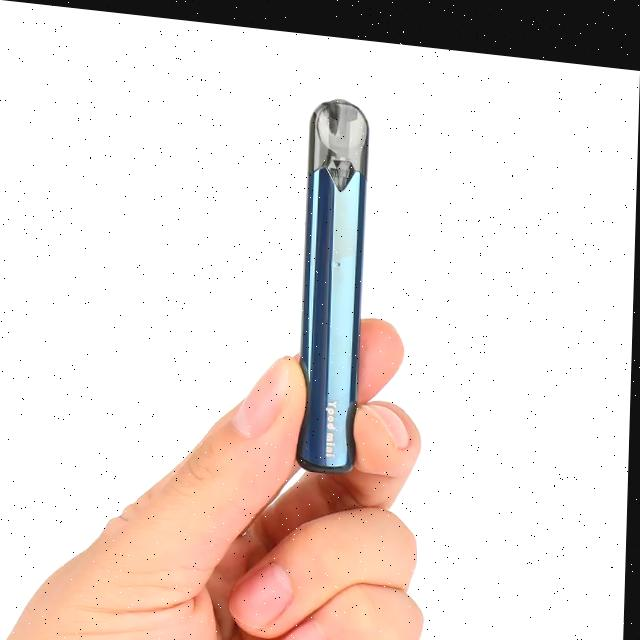vape: (299, 88, 370, 465)
